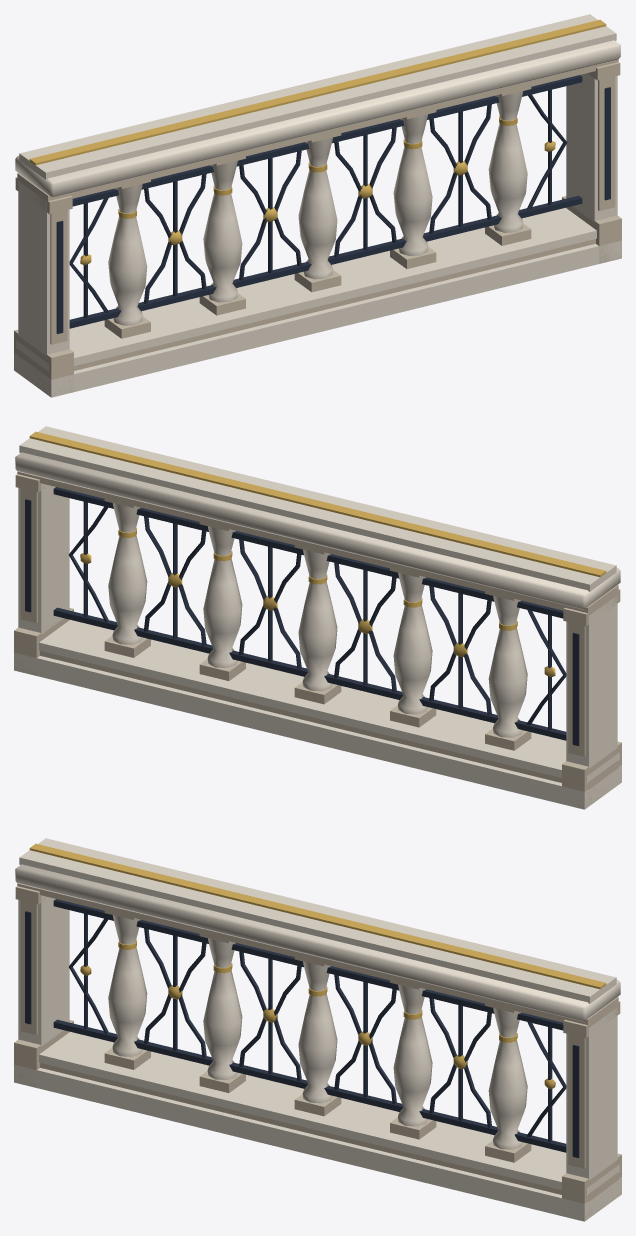
The model's file is prop_ornate_railing.glb.
3 views of the same model, one above another, from view 1: azimuth 30°, elevation 25°; view 2: azimuth 150°, elevation 25°; view 3: azimuth 330°, elevation 25° (orthographic).
Parts seen in each view (by area): view 1: prop_ornate_railing; view 2: prop_ornate_railing; view 3: prop_ornate_railing.
Boxes of the visible parts, x1,y1,x2,y2 form: prop_ornate_railing: [14, 14, 621, 397]; prop_ornate_railing: [14, 426, 621, 809]; prop_ornate_railing: [14, 838, 621, 1221].
Bounding box in the file's own units: 3 × 1.12 × 0.34.
